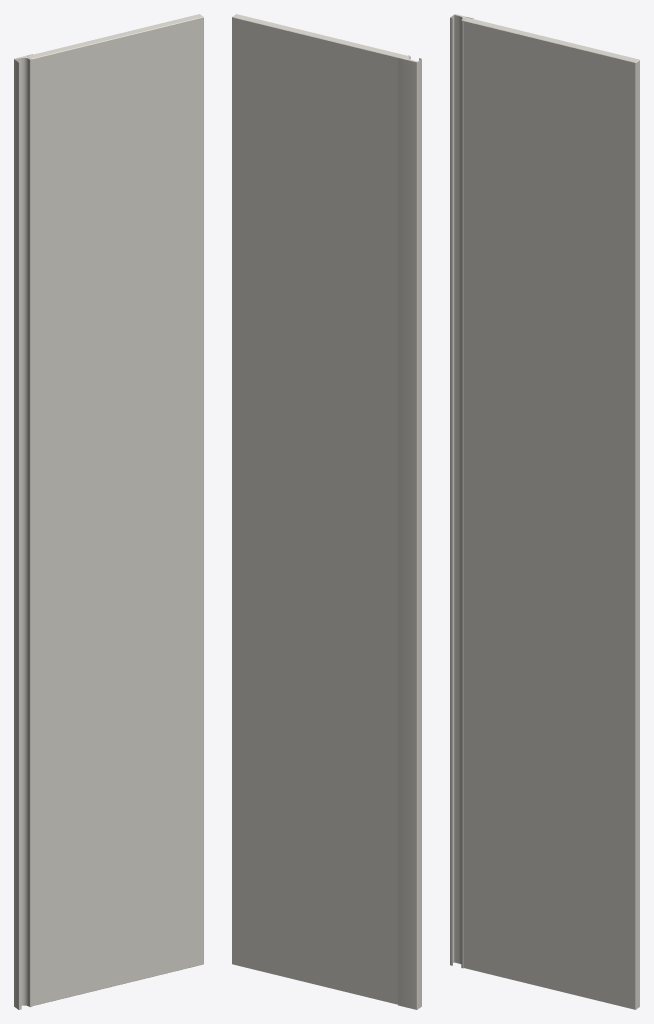
Rendered from caib13201.gltf.
The picture shows the model from 3 angles, left to right: view 1: azimuth 30°, elevation 25°; view 2: azimuth 150°, elevation 25°; view 3: azimuth 330°, elevation 25°; orthographic projection.
Visible parts, largest first — view 1: CAIB13201, HANDLE_01; view 2: CAIB13201, HANDLE_01; view 3: CAIB13201, HANDLE_01.
Part boxes in pixels (box(x1,y1,x2,y2)): CAIB13201: box(27, 14, 203, 1005); HANDLE_01: box(14, 54, 32, 1009); CAIB13201: box(232, 14, 408, 1004); HANDLE_01: box(398, 55, 421, 1009); CAIB13201: box(463, 17, 639, 1009); HANDLE_01: box(450, 14, 473, 968).
Size of the model in its own units: 0.445 by 2.17 by 0.021.
Materials: 3 (3 with a texture image).
